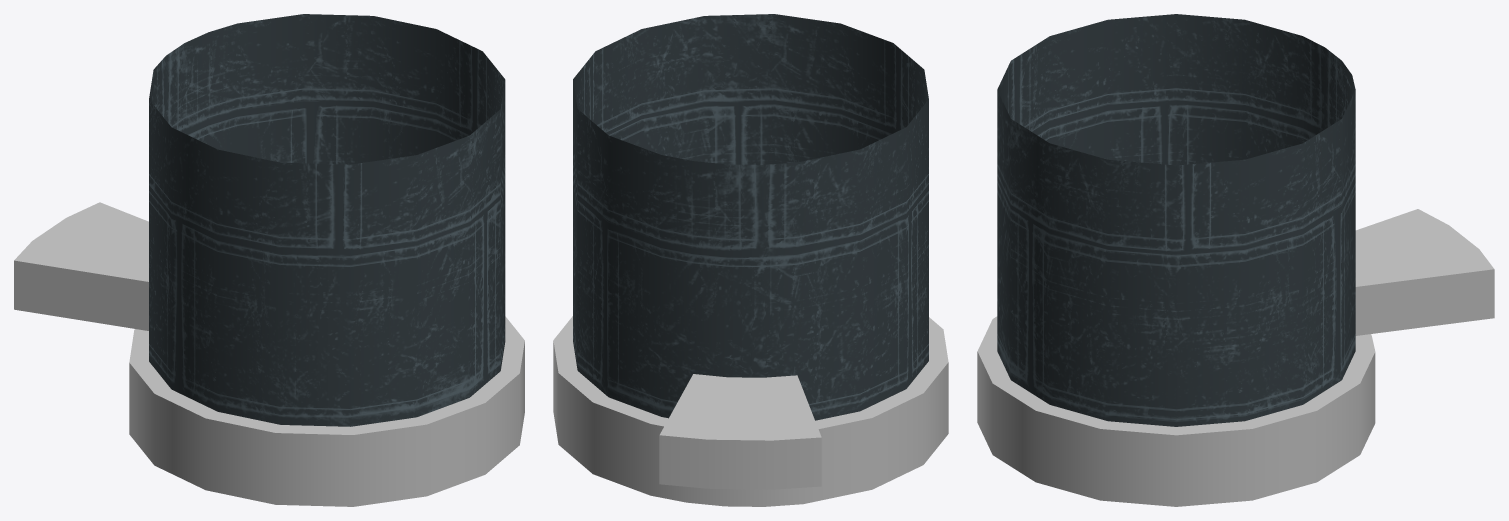
Rendered from towerPeaceWStep.fbx.
3 renders of one model, left to right at view 1: azimuth 30°, elevation 25°; view 2: azimuth 150°, elevation 25°; view 3: azimuth 270°, elevation 25°, orthographic.
Visible parts, largest first — view 1: Cylinder.004; view 2: Cylinder.004; view 3: Cylinder.004.
Boxes of the visible parts, box(x1,y1,x2,y2) form: Cylinder.004: box(14, 14, 524, 506); Cylinder.004: box(553, 14, 948, 506); Cylinder.004: box(977, 14, 1494, 506).
Size of the model in its own units: 533 by 466 by 656.
